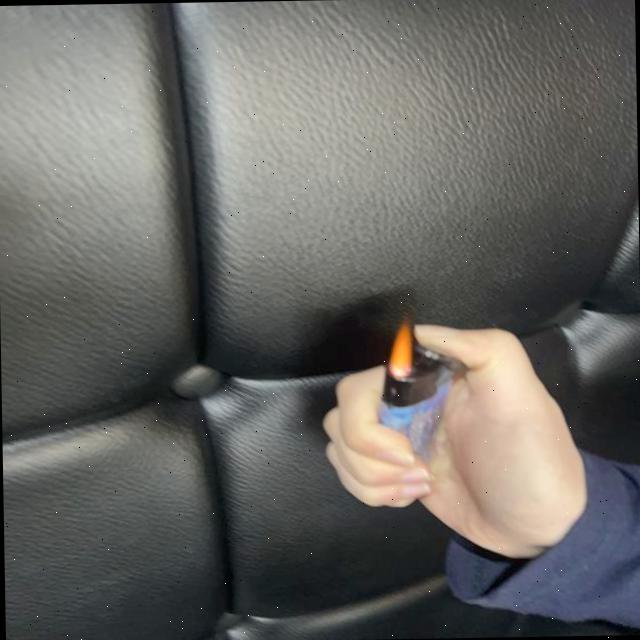fire: (390, 321, 416, 378)
